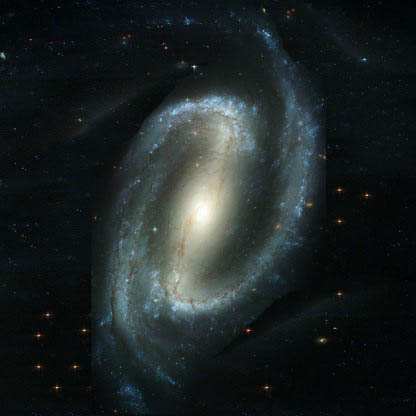NGC 1300: (55, 16, 336, 407)
